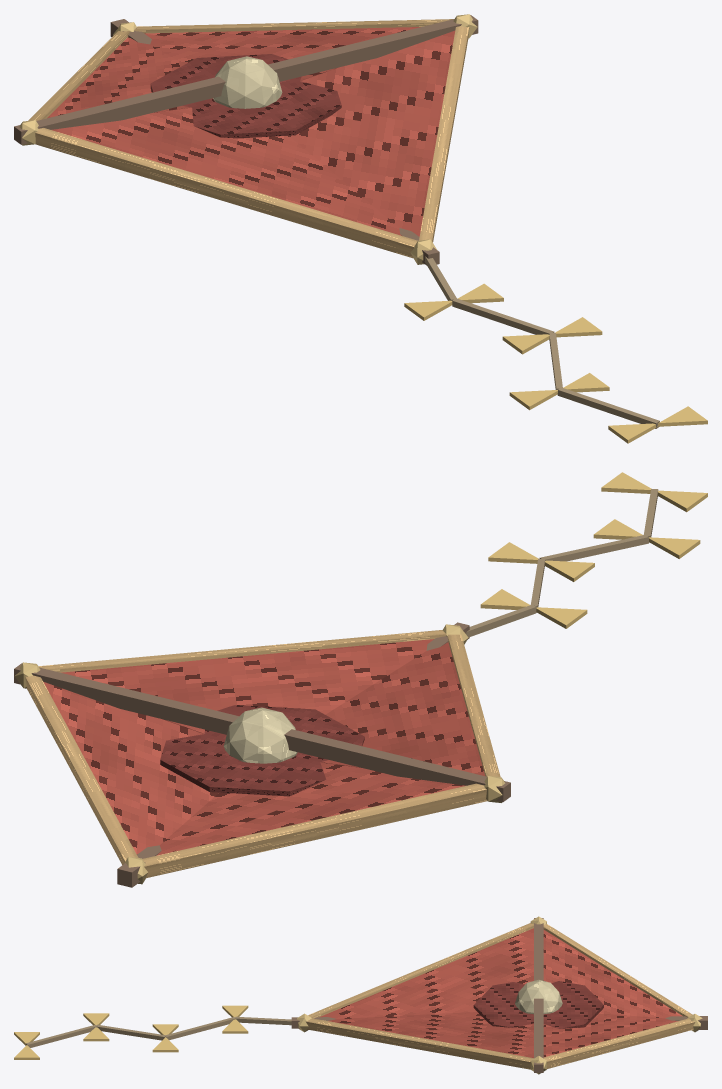
File: proj_kite.gltf
The picture shows the model from 3 angles, top to bottom: view 1: azimuth 30°, elevation 25°; view 2: azimuth 150°, elevation 25°; view 3: azimuth 270°, elevation 25°; orthographic projection. The views are drawn at different scales.
Visible parts, largest first — view 1: sail, ember, frame, tail; view 2: sail, ember, frame, tail; view 3: sail, ember, tail, frame.
Part boxes in pixels (<box>): sail: <box>47,27,455,236</box>; ember: <box>28,19,469,258</box>; frame: <box>14,14,478,265</box>; tail: <box>404,256,707,443</box>; sail: <box>43,639,484,855</box>; ember: <box>25,630,500,878</box>; frame: <box>14,622,510,887</box>; tail: <box>466,472,707,637</box>; sail: <box>319,928,682,1057</box>; ember: <box>306,923,695,1069</box>; tail: <box>14,1005,291,1059</box>; frame: <box>291,916,707,1074</box>.
Size of the model in its own units: 0.8 by 0.1501 by 1.6.
4 materials, 2 textured.
